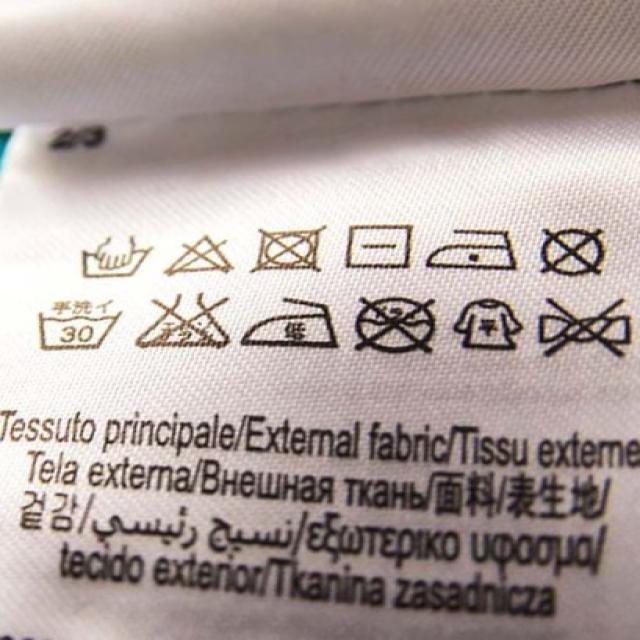30C: (29, 294, 130, 356)
DN_bleach: (163, 233, 237, 278)
DN_dry_clean: (349, 290, 444, 360), (537, 223, 612, 281)
DN_tumble_dry: (251, 221, 330, 277)
DN_wring: (535, 296, 631, 365)
dry_flat: (342, 217, 417, 273)
hand_wash: (78, 229, 154, 283)
iron: (239, 294, 342, 357)
iron_low: (425, 225, 523, 276)
